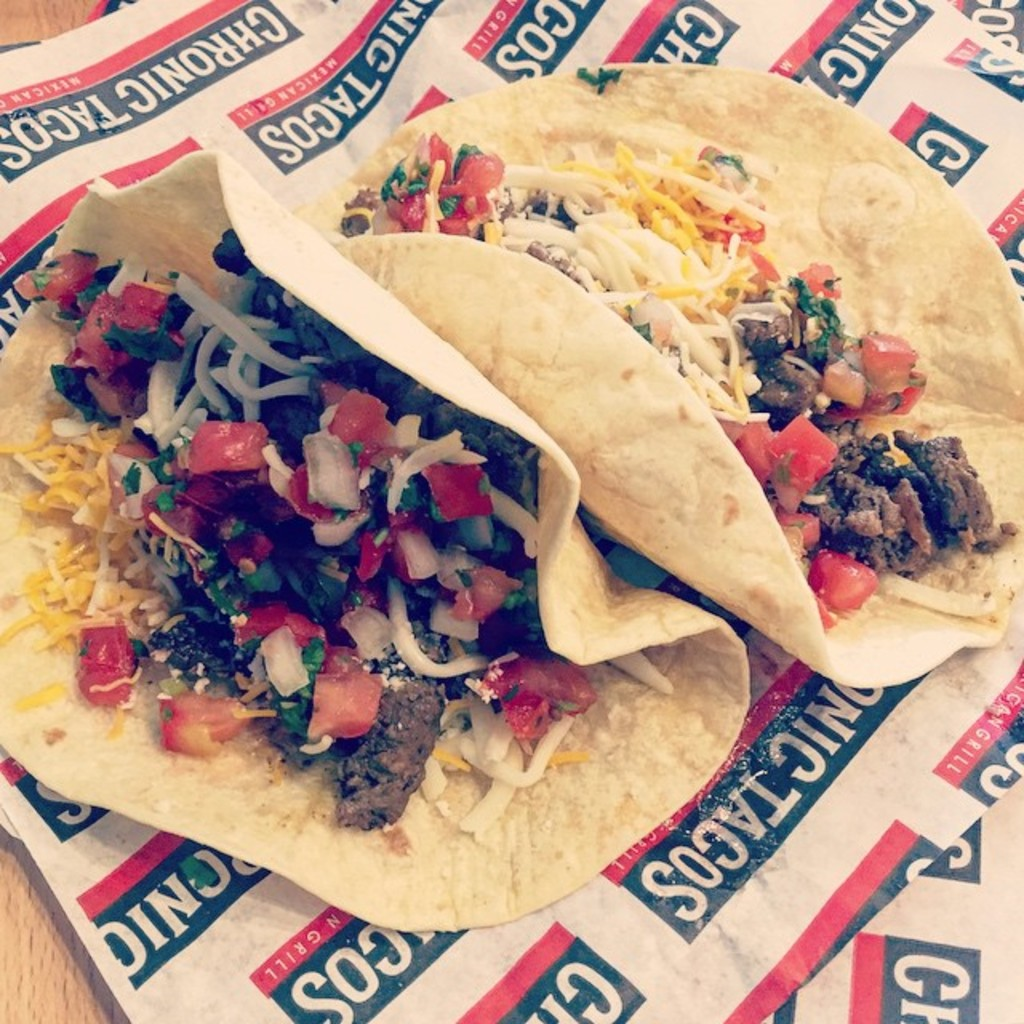taco: (0, 147, 755, 931), (302, 62, 1022, 690)
